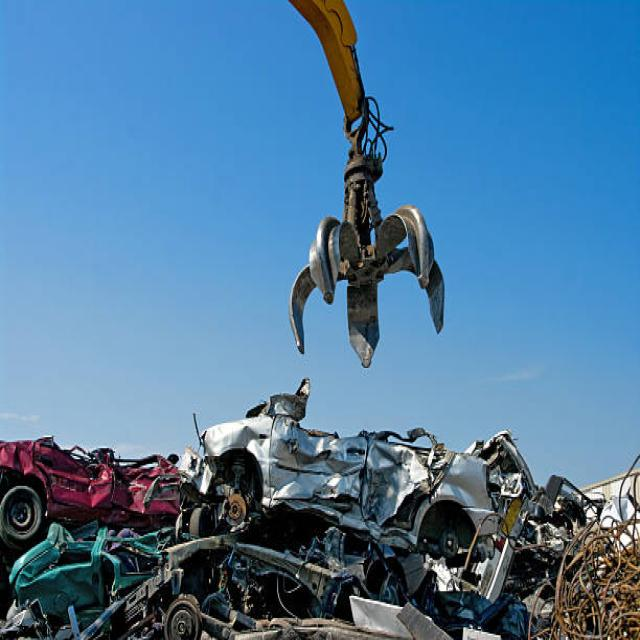metal: (203, 406, 534, 582), (19, 554, 164, 629), (44, 448, 186, 521)
